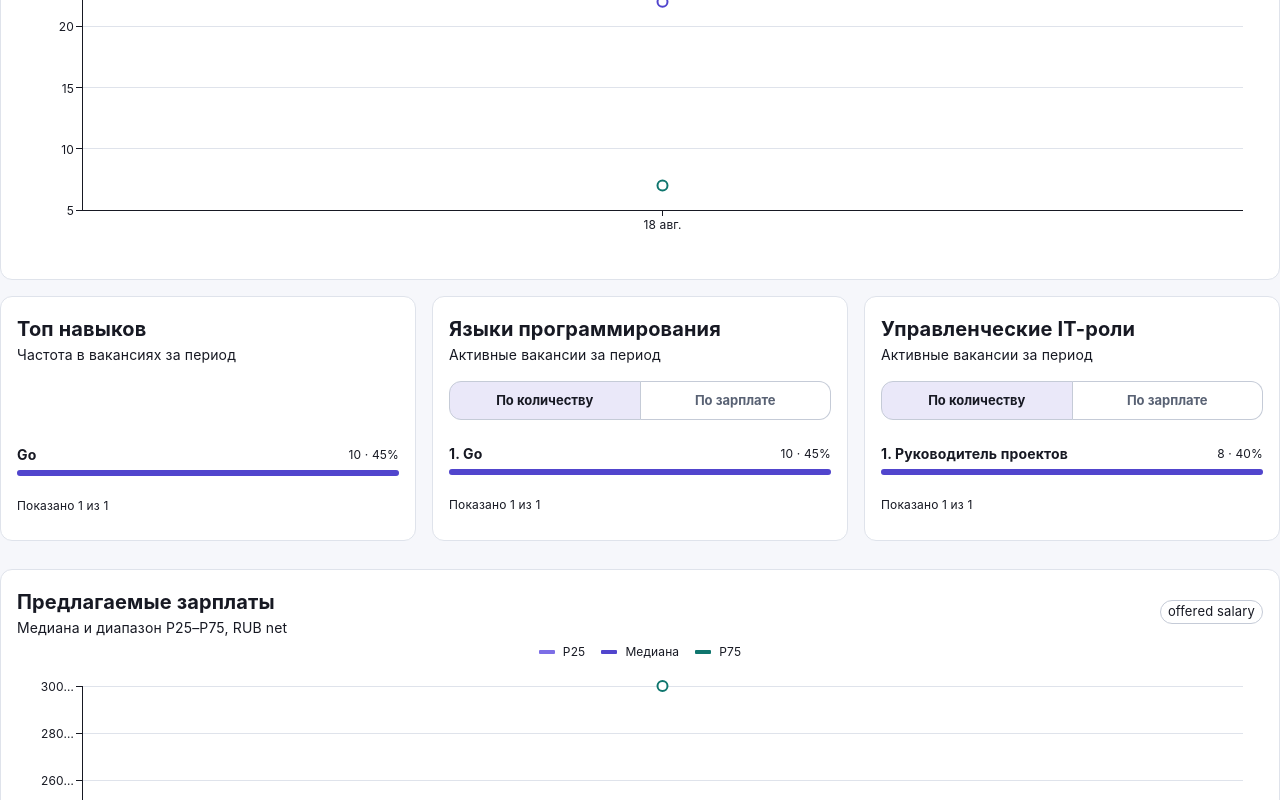
Test: DashboardPage › switches each new ranking independently between count and salary
The image size is (1280, 800).
(page scrolled)
Expected: the text "10 · 45%" below "Языки программирования" is shown, [780,446,831,461]
Expected: the text "8 · 40%" is shown, [1217,444,1263,464]
Click the button "По зарплате" below "Языки программирования" at (735, 400), box [640,381,831,420]
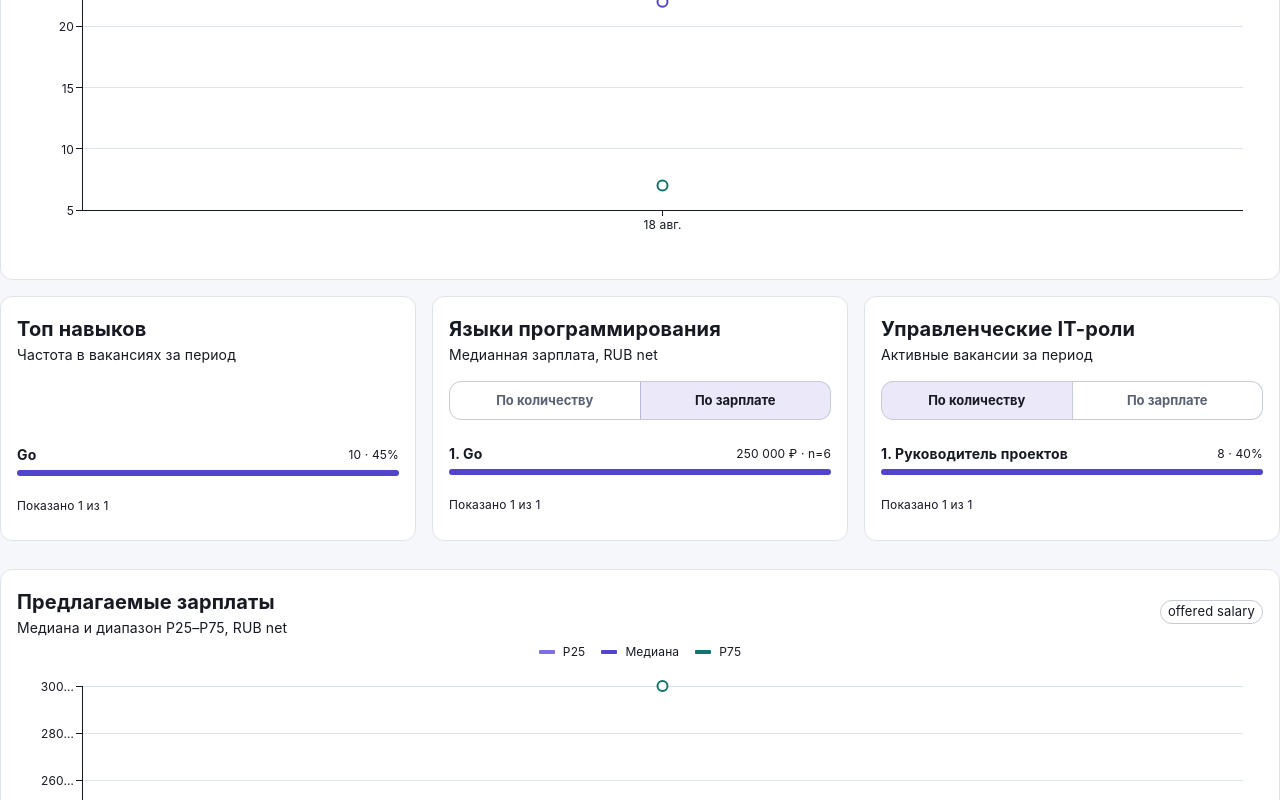
Expected: the text "8 · 40%" is shown, [1217,444,1263,464]
Expected: the text "250 000 ₽ · n=6" is shown, [736,444,831,464]
